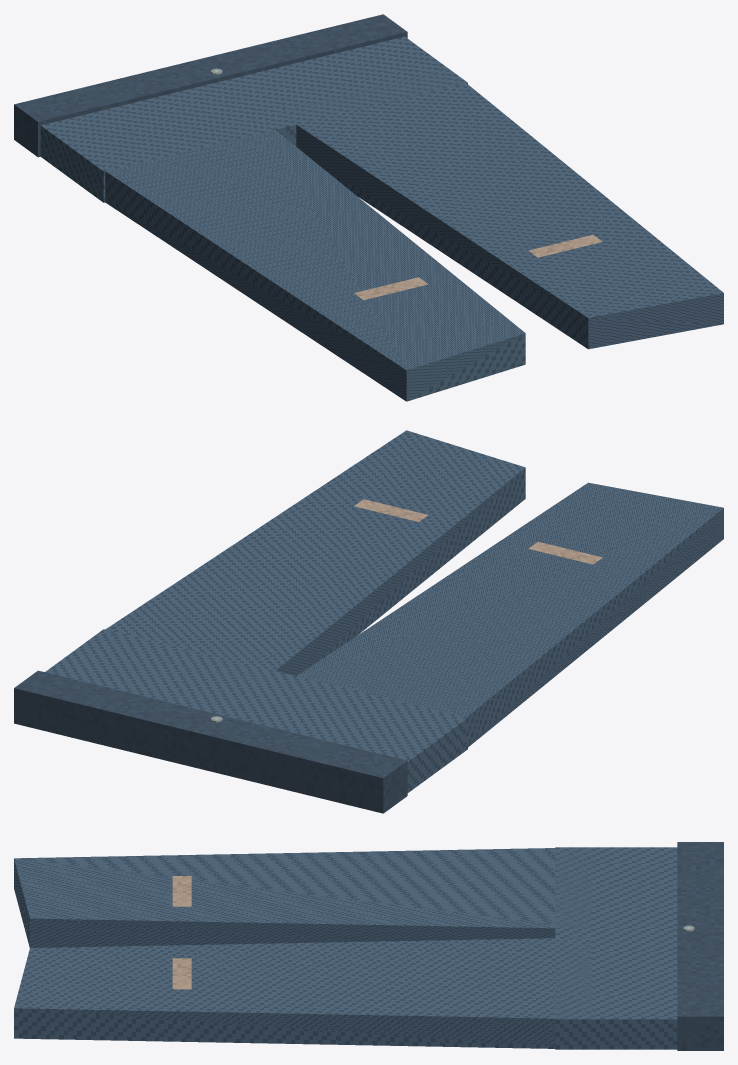
File: jeans_ripped.glb
The picture shows the model from 3 angles, top to bottom: view 1: azimuth 30°, elevation 25°; view 2: azimuth 150°, elevation 25°; view 3: azimuth 270°, elevation 25°; orthographic projection. The views are drawn at different scales.
Parts seen in each view (by area): view 1: block_leg 1, block_leg -1, block_seat, block_waistband, block_frayed slit 1, block_frayed slit -1; view 2: block_leg -1, block_leg 1, block_seat, block_waistband, block_frayed slit -1, block_frayed slit 1; view 3: block_leg 1, block_leg -1, block_seat, block_waistband, block_frayed slit 1, block_frayed slit -1.
Part boxes in pixels (bbox=[...]): block_leg 1: bbox=[278, 68, 723, 349]; block_leg -1: bbox=[86, 118, 525, 401]; block_seat: bbox=[40, 36, 467, 202]; block_waistband: bbox=[14, 14, 407, 157]; block_frayed slit 1: bbox=[528, 235, 602, 257]; block_frayed slit -1: bbox=[354, 277, 428, 299]; block_leg -1: bbox=[278, 482, 723, 747]; block_leg 1: bbox=[105, 430, 525, 683]; block_seat: bbox=[45, 629, 467, 792]; block_waistband: bbox=[14, 670, 407, 813]; block_frayed slit -1: bbox=[528, 541, 602, 564]; block_frayed slit 1: bbox=[354, 499, 427, 521]; block_leg 1: bbox=[14, 937, 593, 1048]; block_leg -1: bbox=[14, 847, 594, 947]; block_seat: bbox=[555, 847, 677, 1049]; block_waistband: bbox=[677, 842, 723, 1050]; block_frayed slit 1: bbox=[172, 958, 191, 989]; block_frayed slit -1: bbox=[172, 876, 191, 906].
Size of the model in its own units: 0.284 by 0.027 by 0.488.
1 material, 1 textured.
